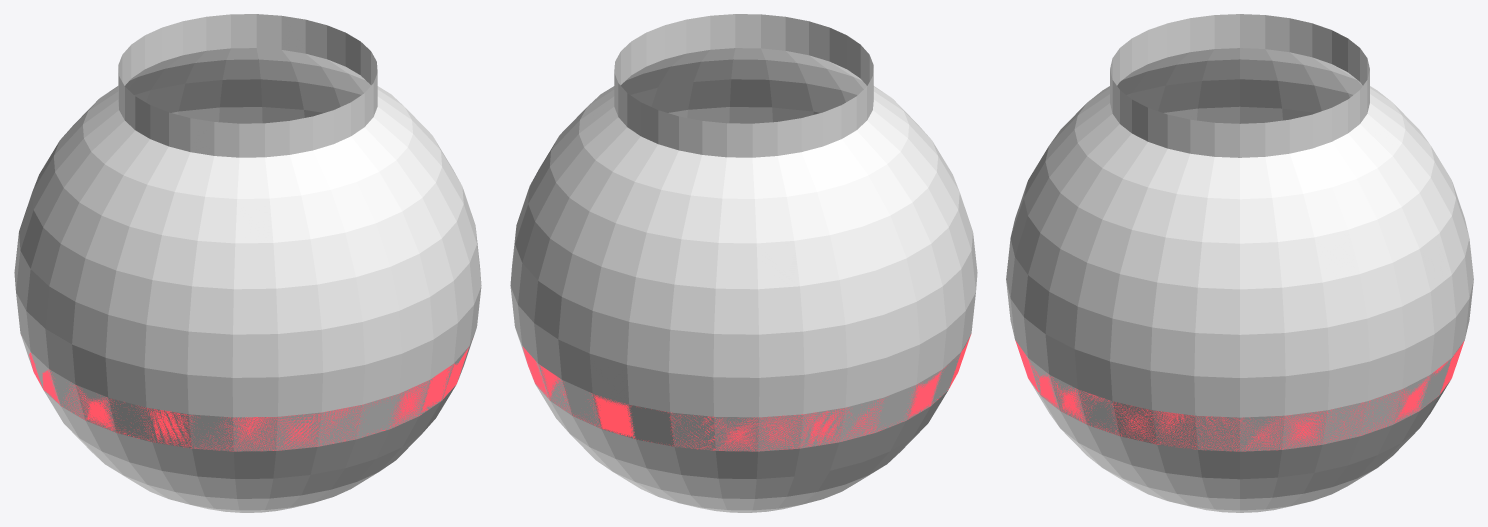
The model's file is Elixir_New_Basic_2.glb.
3 renders of one model, left to right at view 1: azimuth 30°, elevation 25°; view 2: azimuth 150°, elevation 25°; view 3: azimuth 270°, elevation 25°, orthographic.
Visible parts, largest first — view 1: Sphere, Liquid; view 2: Sphere, Liquid; view 3: Sphere, Liquid.
Boxes of the visible parts, <box> form: Sphere: <box>14,14,481,512</box>; Liquid: <box>29,346,469,451</box>; Sphere: <box>510,14,977,512</box>; Liquid: <box>522,334,971,451</box>; Sphere: <box>1006,14,1473,512</box>; Liquid: <box>1015,340,1464,451</box>.
Size of the model in its own units: 2 by 1.99 by 2.
